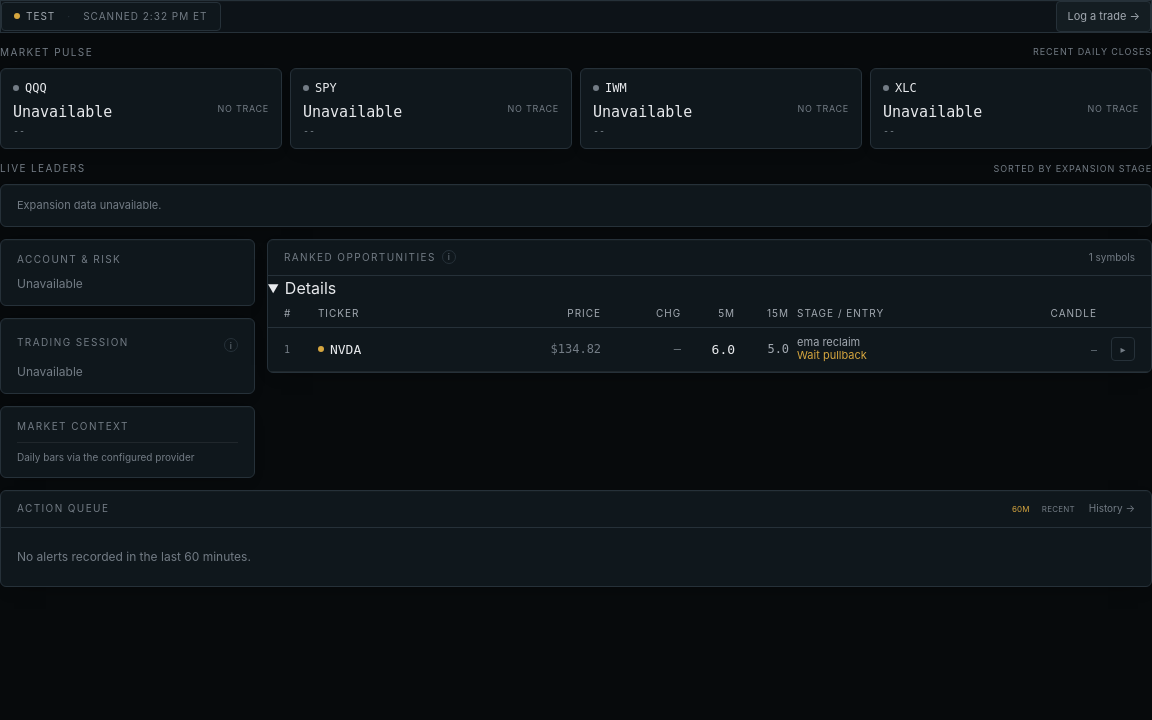
Scenario: dashboard auto-refresh — preserves user state › 9. selected symbol (expanded row) survives a background refresh
Step 1. Click the button named "Expand NVDA setup detail" → (1123, 349), box [1111,337,1135,361]
Wait 60000 ms
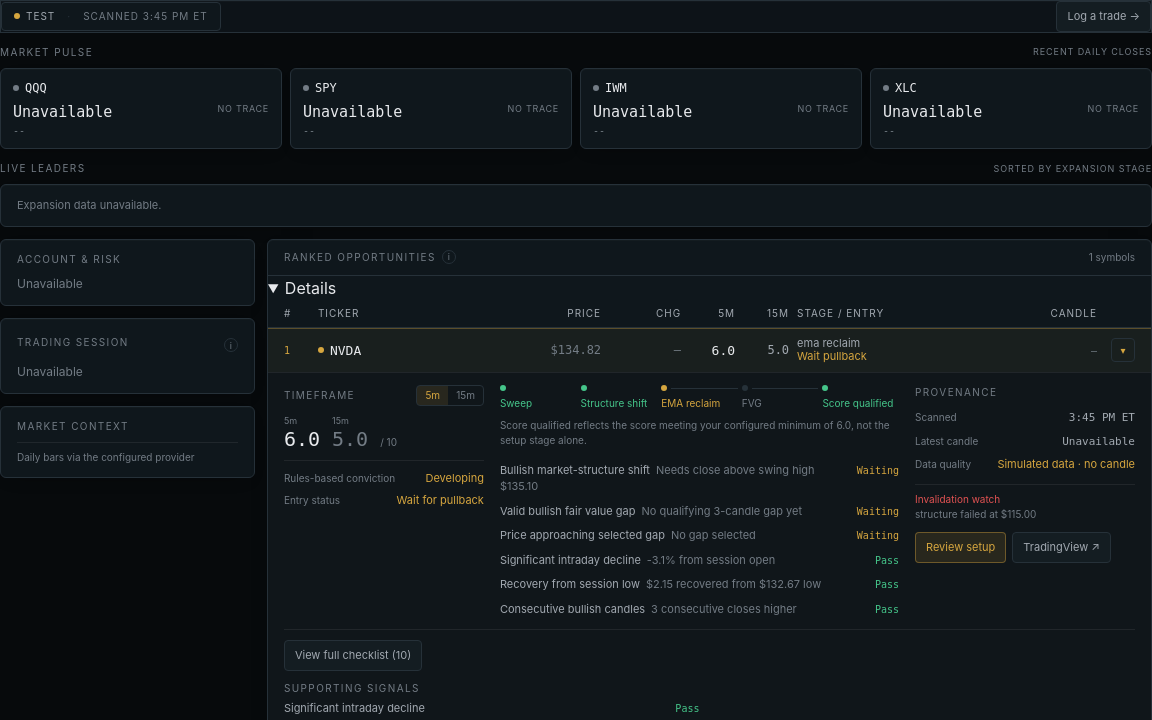
Now the button named "Collapse NVDA setup detail" is shown, box [1111,338,1135,362]
Now the text "Scanned 3:45 PM ET" is shown, box [83,9,208,24]
